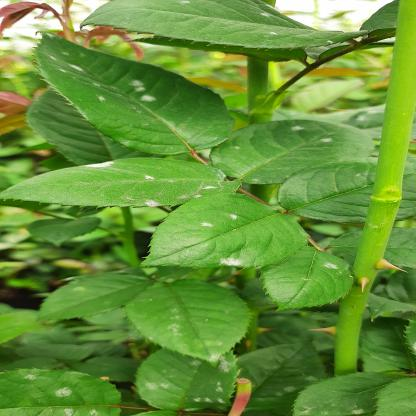normal: (272, 164, 415, 225)
powdery-mildew: (23, 30, 242, 152), (2, 154, 248, 210), (139, 193, 317, 269), (114, 274, 260, 366), (204, 116, 376, 182), (124, 342, 254, 410), (262, 242, 366, 310), (36, 273, 167, 320), (3, 365, 121, 415)
